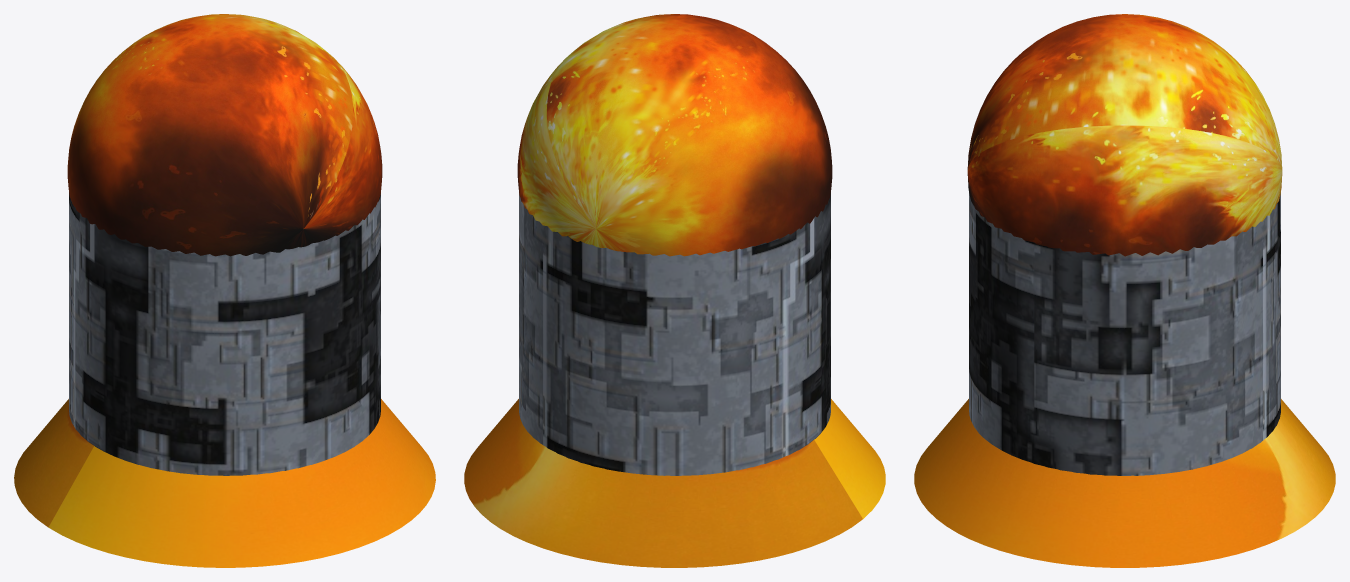
Rendered from FIRE_ROCKET.obj.
3 renders of one model, left to right at view 1: azimuth 30°, elevation 25°; view 2: azimuth 150°, elevation 25°; view 3: azimuth 270°, elevation 25°, orthographic.
Visible parts, largest first — view 1: object_3, object_2, object_1; view 2: object_3, object_2, object_1; view 3: object_3, object_2, object_1.
Part boxes in pixels (x1,y1,x2,y2): object_3: (69, 192, 380, 475); object_2: (67, 14, 382, 256); object_1: (14, 399, 435, 567); object_3: (519, 192, 830, 475); object_2: (517, 14, 832, 256); object_1: (464, 399, 885, 567); object_3: (969, 193, 1280, 475); object_2: (967, 14, 1282, 256); object_1: (914, 399, 1335, 567).
Size of the model in its own units: 36.01 by 42.44 by 36.01.
